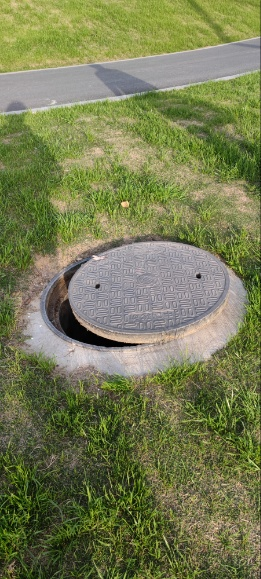uncovered: (39, 238, 234, 353)
